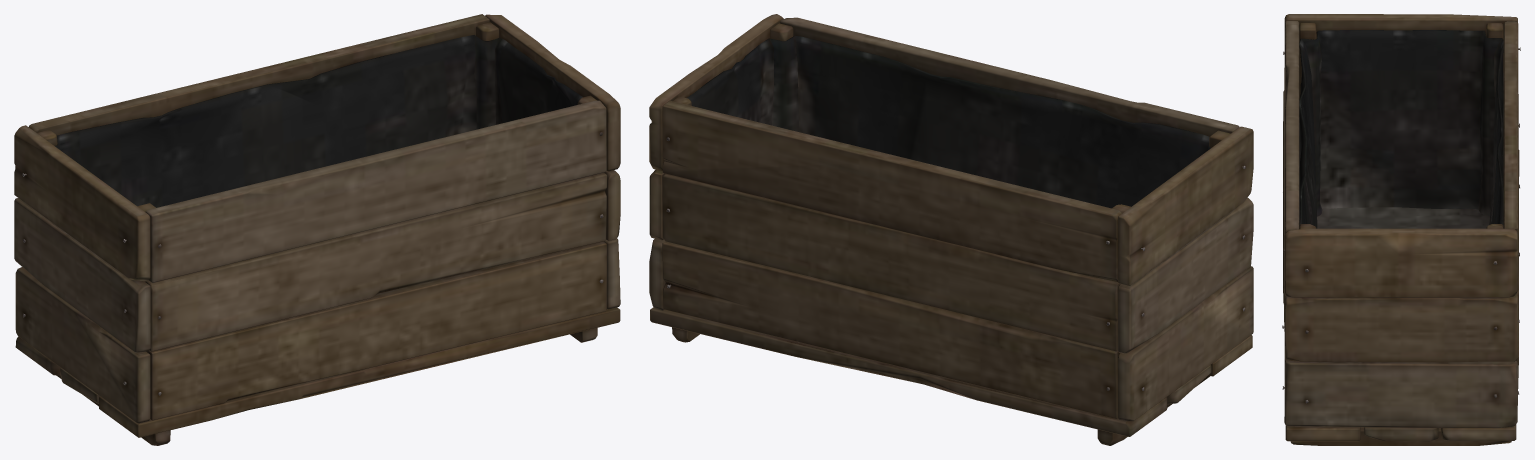
File: planter_box_01.gltf
3 renders of one model, left to right at view 1: azimuth 30°, elevation 25°; view 2: azimuth 150°, elevation 25°; view 3: azimuth 270°, elevation 25°, orthographic. The views are drawn at different scales.
Visible parts, largest first — view 1: planter_box_01; view 2: planter_box_01; view 3: planter_box_01.
Boxes of the visible parts, x1,y1,x2,y2 form: planter_box_01: (14, 14, 620, 445); planter_box_01: (649, 14, 1253, 445); planter_box_01: (1282, 14, 1520, 445).
Bounding box in the file's own units: 0.9126 × 0.425 × 0.4137.
Materials: 1 (1 with a texture image).
